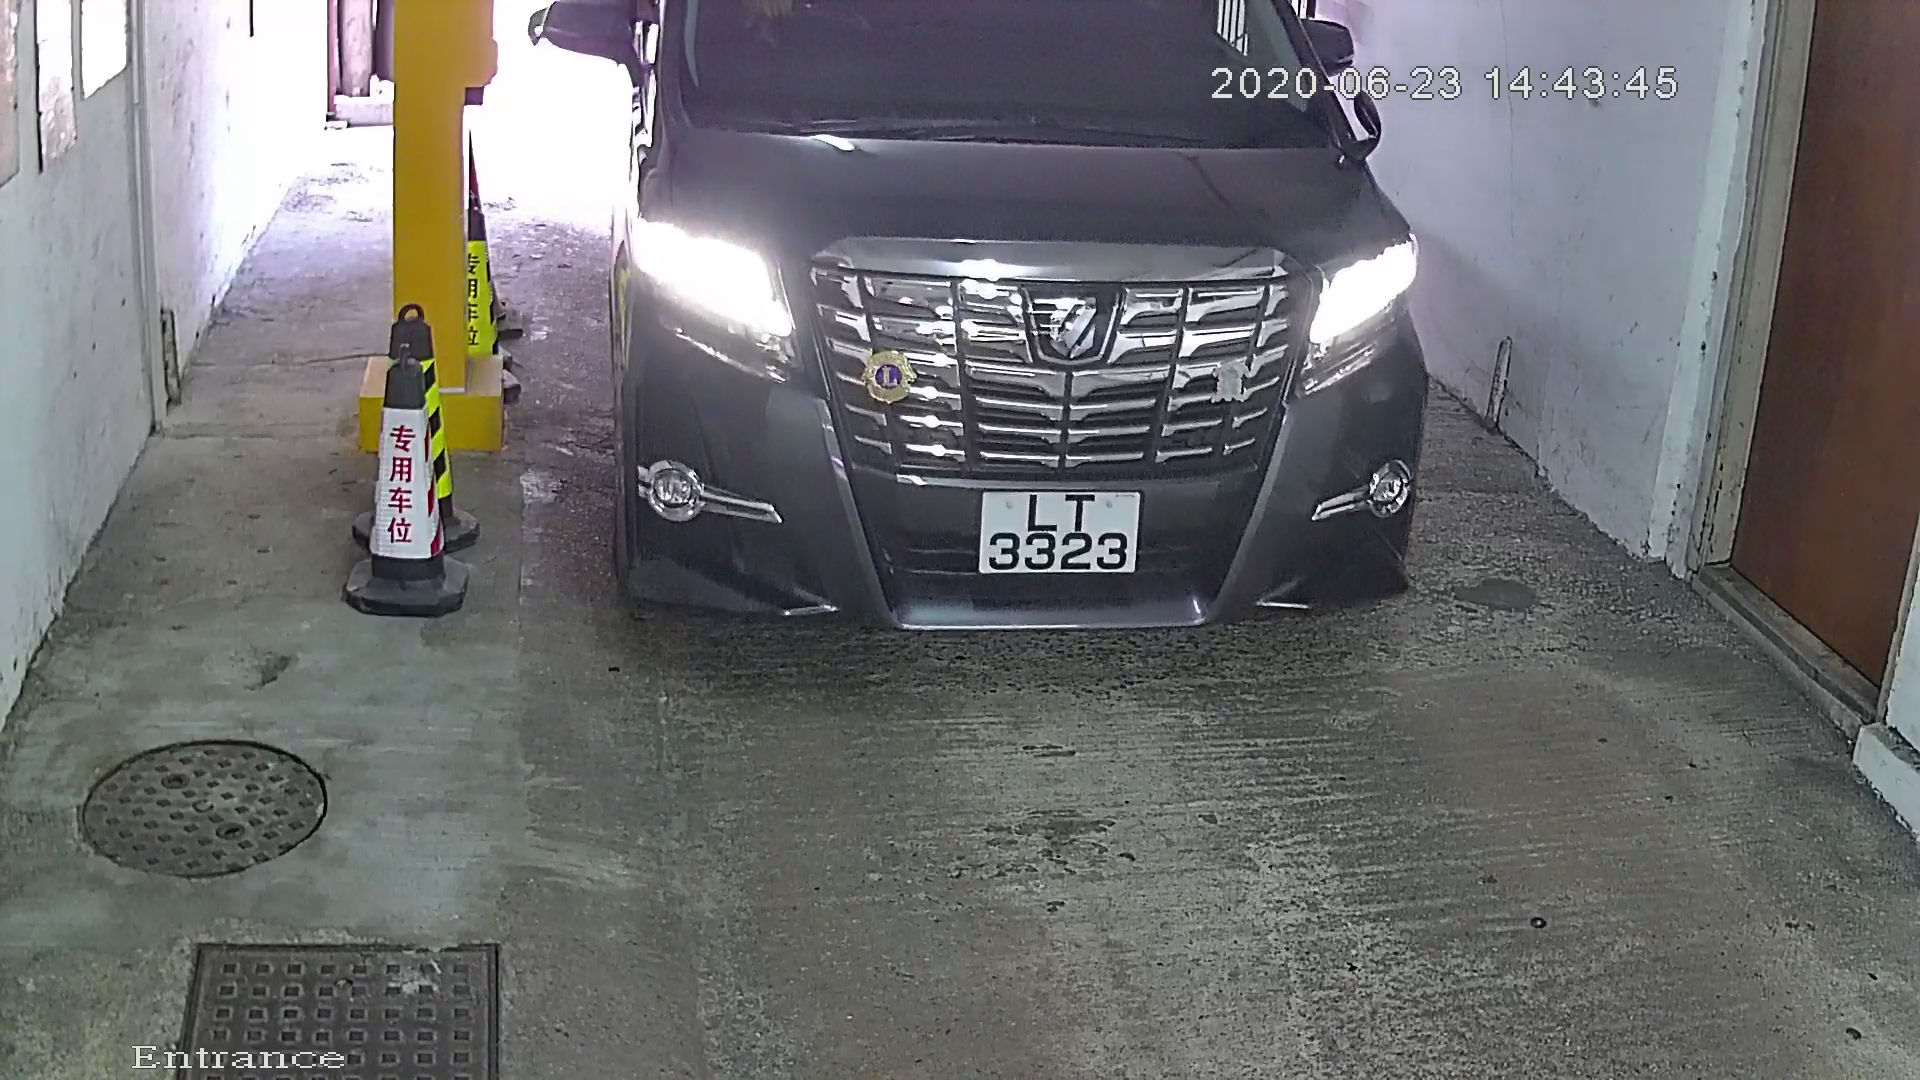privatecar: (506, 1, 1476, 669)
